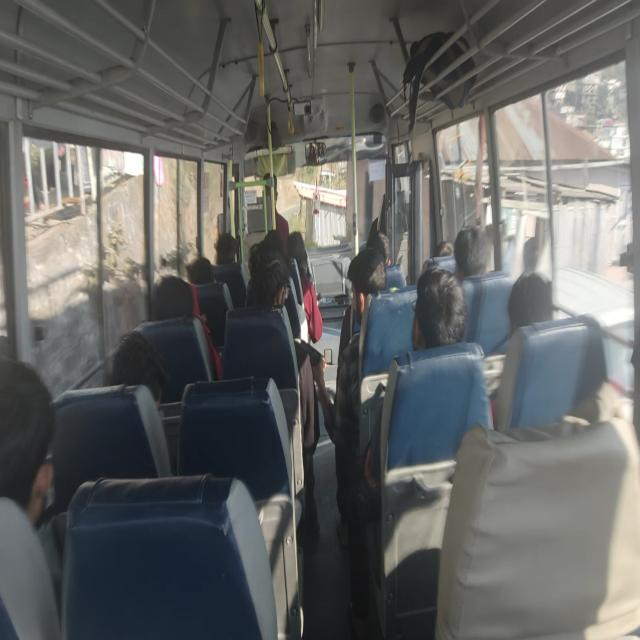person: (1, 357, 66, 526), (415, 271, 475, 368), (104, 327, 173, 407), (502, 264, 556, 329), (246, 243, 292, 314), (145, 274, 201, 329), (343, 243, 384, 314), (457, 230, 492, 277), (284, 225, 318, 268), (380, 163, 414, 204), (210, 221, 239, 269), (260, 168, 293, 206), (262, 218, 291, 253), (188, 250, 216, 286), (430, 235, 457, 262), (366, 233, 393, 258)
